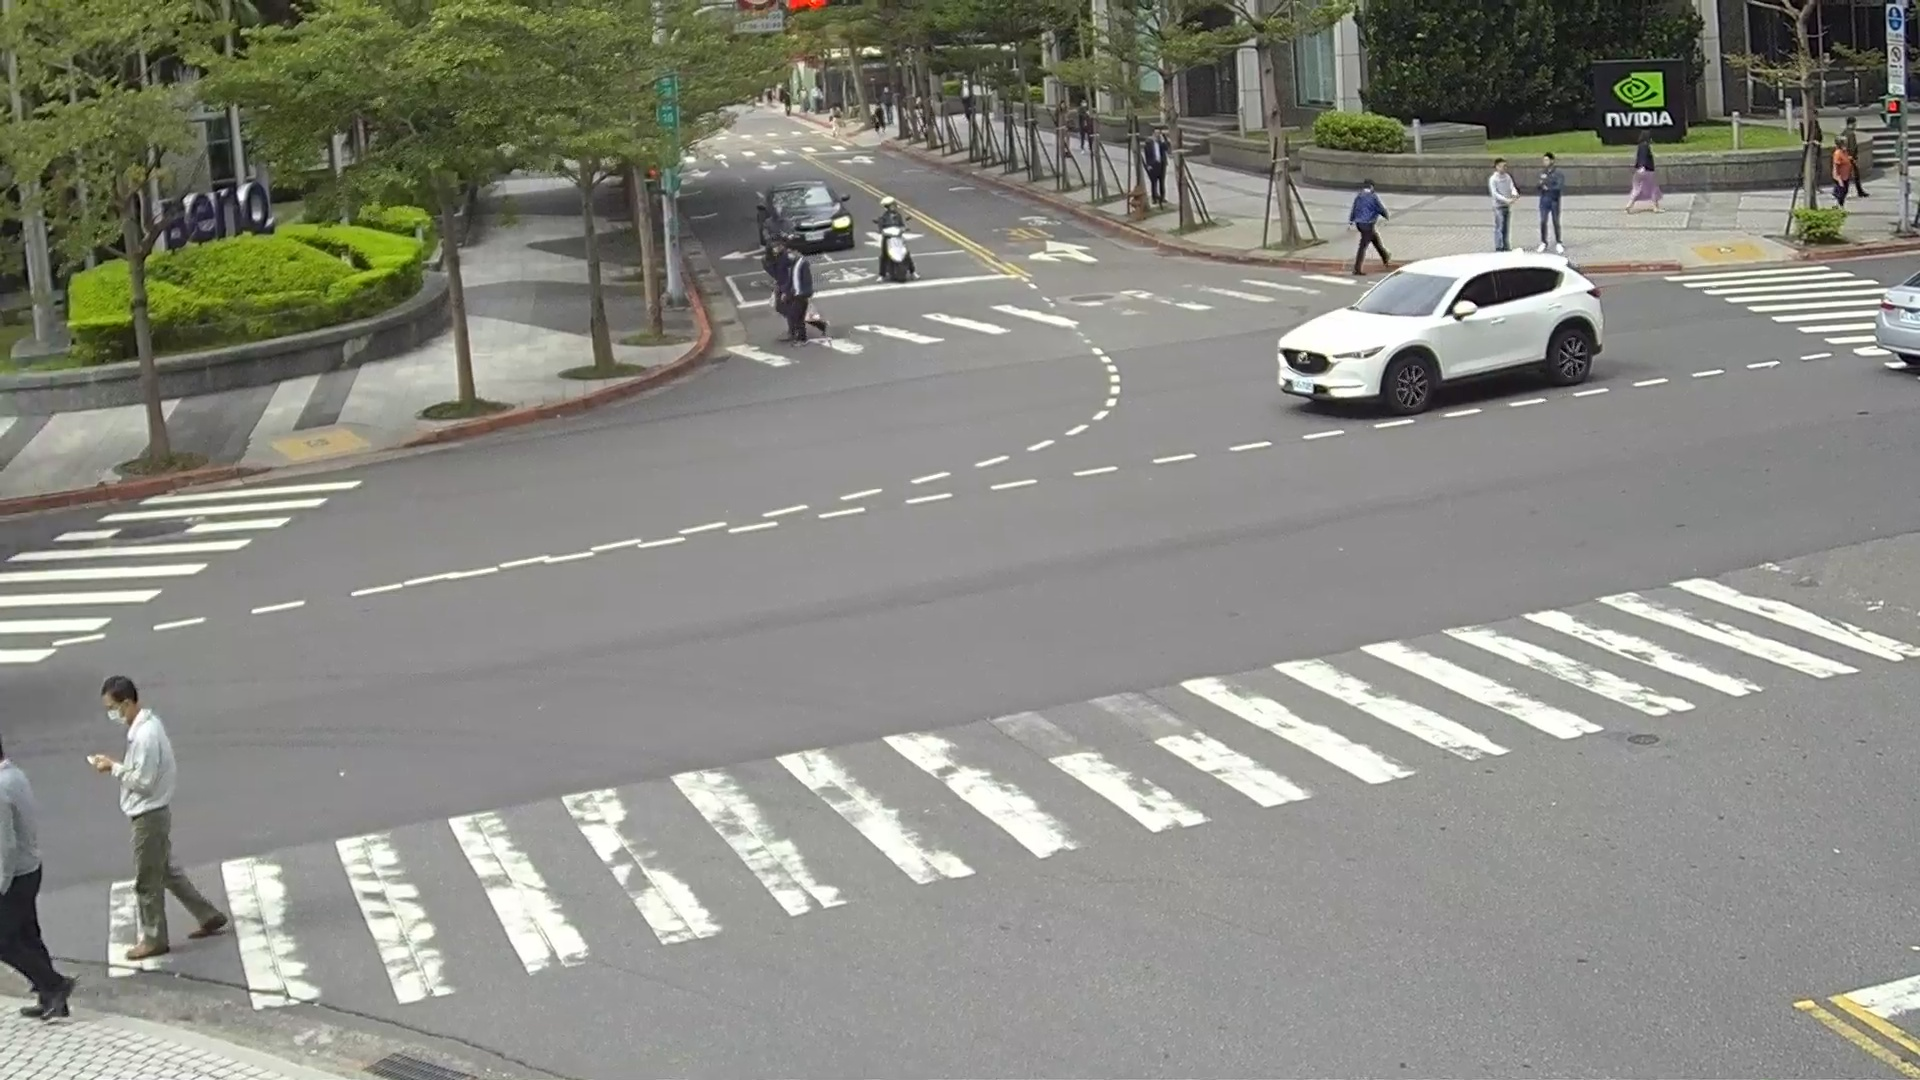bike: (874, 232, 918, 284)
pedestrian: (91, 675, 227, 960), (1, 717, 75, 1021), (764, 241, 817, 342), (1348, 175, 1395, 271), (1534, 152, 1566, 252), (1487, 156, 1522, 250), (1626, 133, 1661, 213), (1831, 129, 1863, 202), (1140, 131, 1165, 200), (871, 198, 906, 239)
vehicle: (1278, 246, 1601, 413), (757, 181, 855, 254), (1875, 238, 1920, 374)
